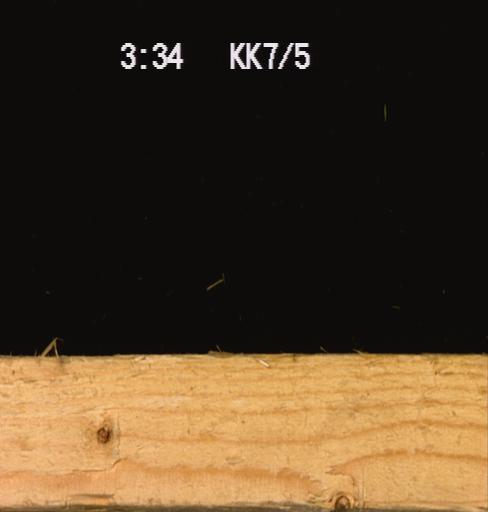dry_knot: (93, 419, 121, 449)
edge_knot: (324, 490, 357, 510)
wave: (243, 499, 483, 510), (60, 489, 128, 510)
